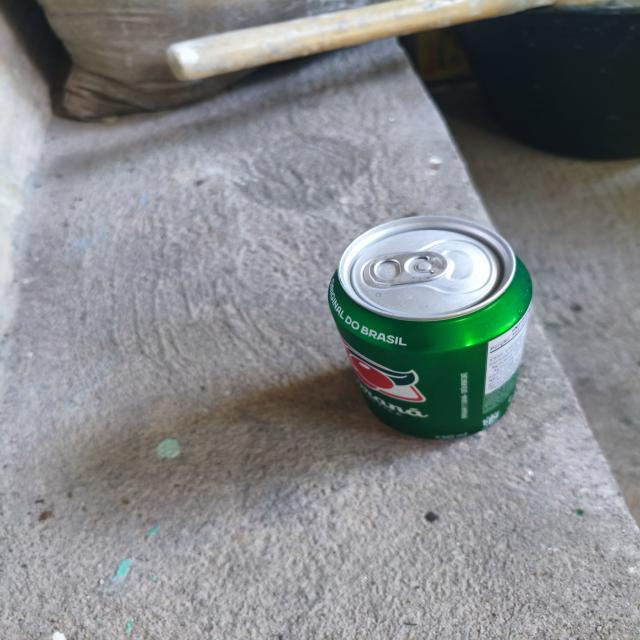Guarana: (329, 207, 547, 466)
